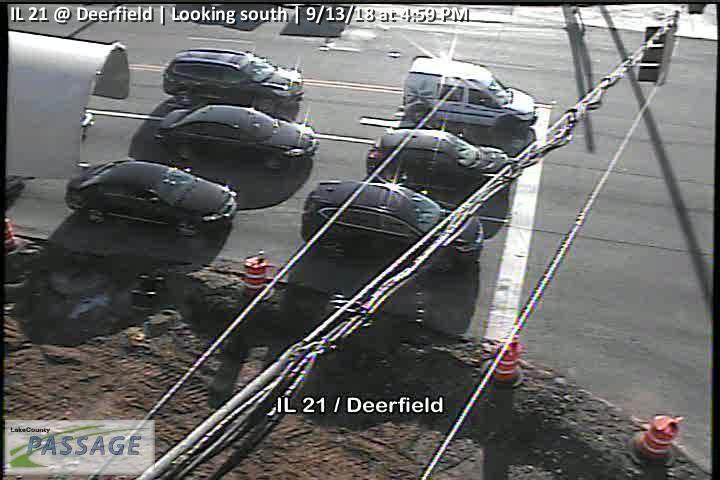SUV: (301, 181, 481, 270), (403, 56, 539, 137), (366, 131, 512, 197), (158, 49, 305, 104)
Sedan: (63, 161, 237, 238), (153, 106, 319, 164)
